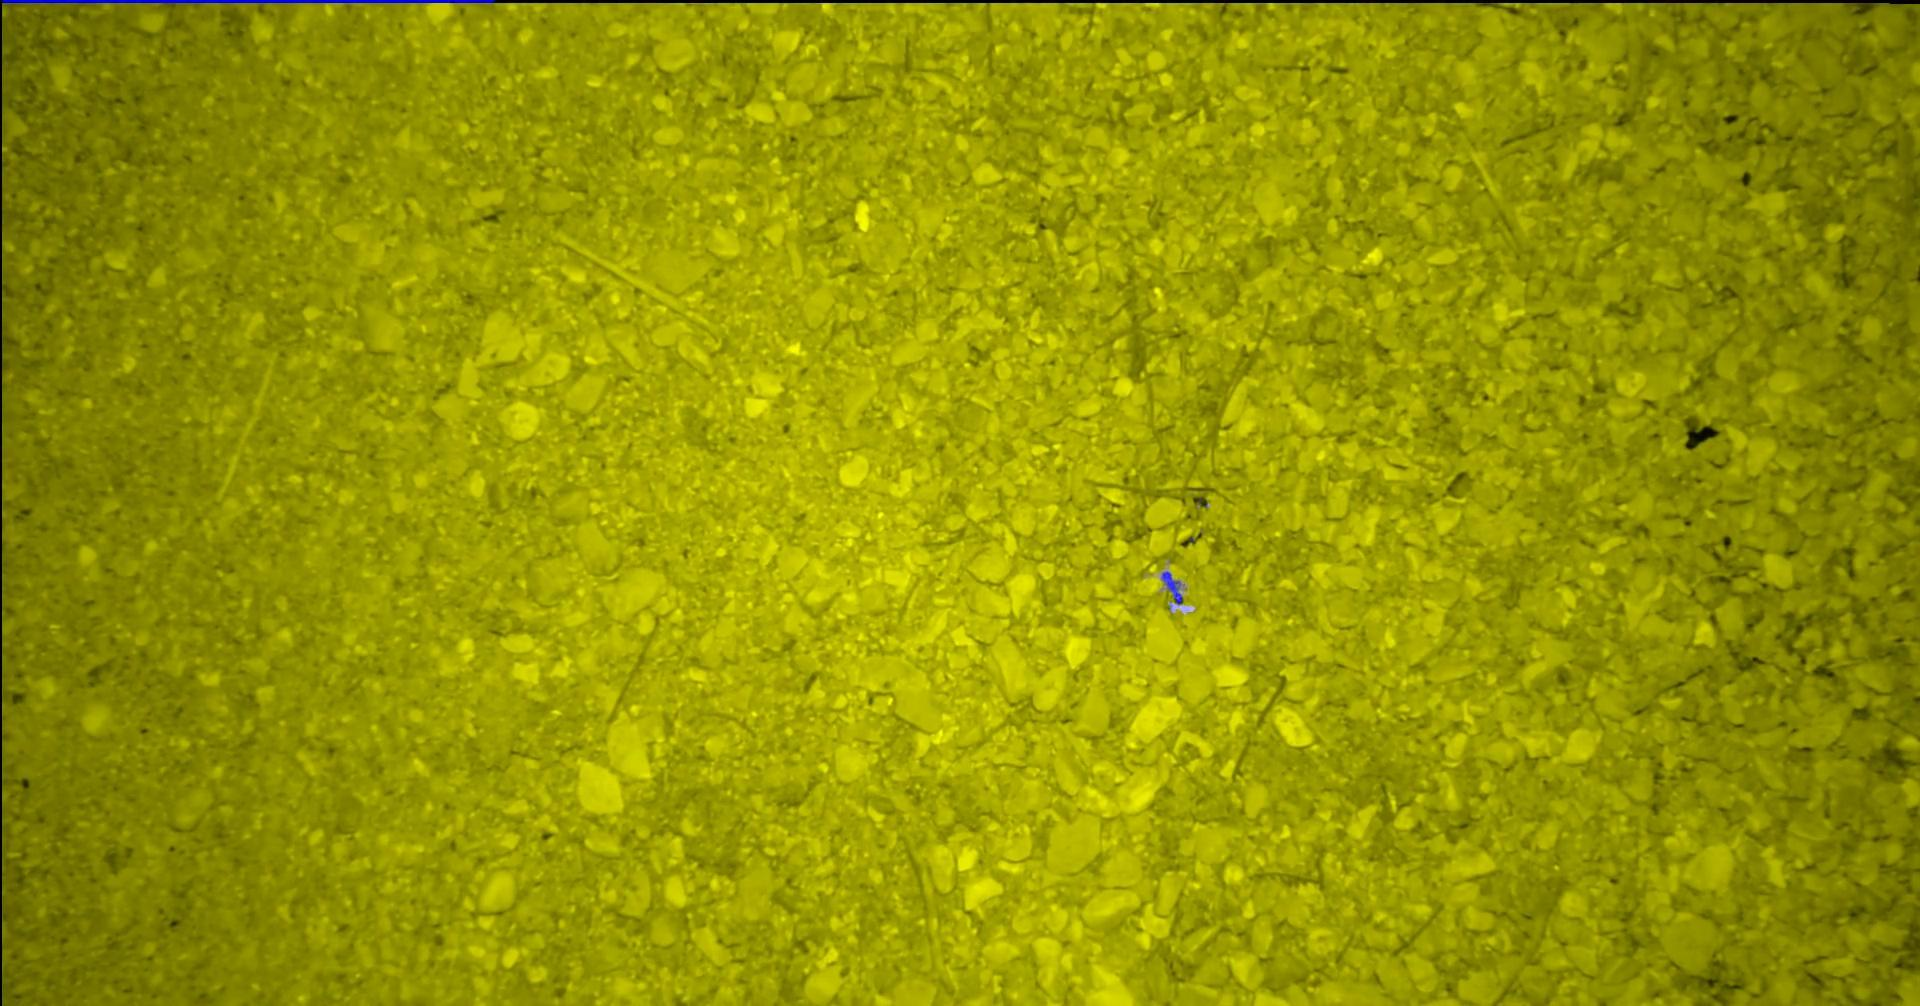ant: (1163, 572, 1183, 605)
